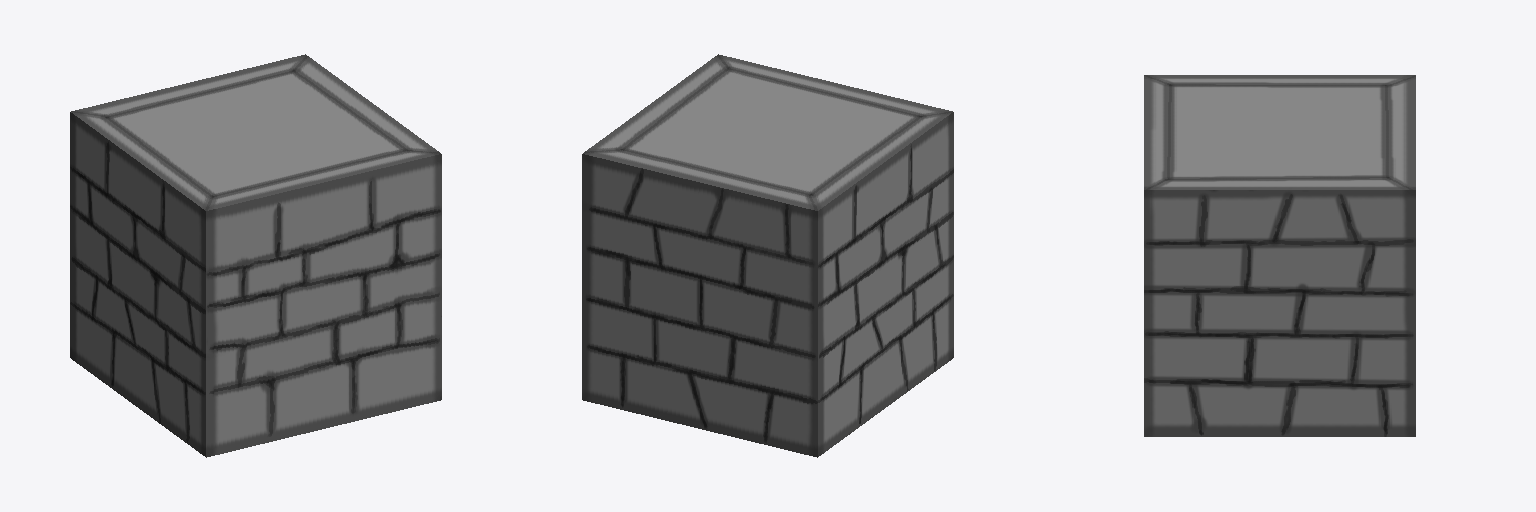
3 views of the same model, side by side, from view 1: azimuth 30°, elevation 25°; view 2: azimuth 150°, elevation 25°; view 3: azimuth 270°, elevation 25° (orthographic).
Parts seen in each view (by area): view 1: Cube; view 2: Cube; view 3: Cube.
Boxes of the visible parts, box(x1,y1,x2,y2) form: Cube: box(70, 54, 441, 457); Cube: box(582, 54, 953, 457); Cube: box(1144, 75, 1415, 436).
Bounding box in the file's own units: 2 × 2 × 2.
1 materials, 1 textured.